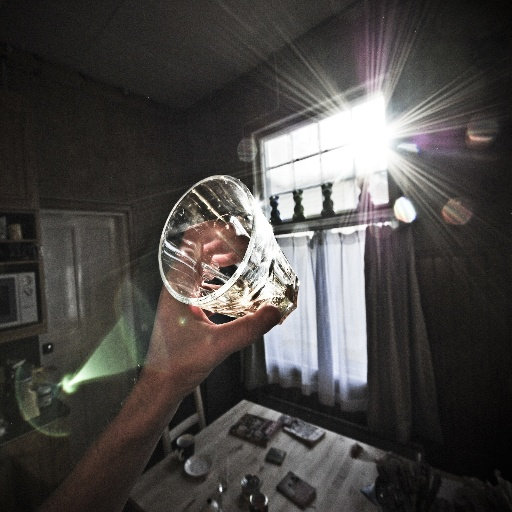hand: (93, 218, 300, 407)
